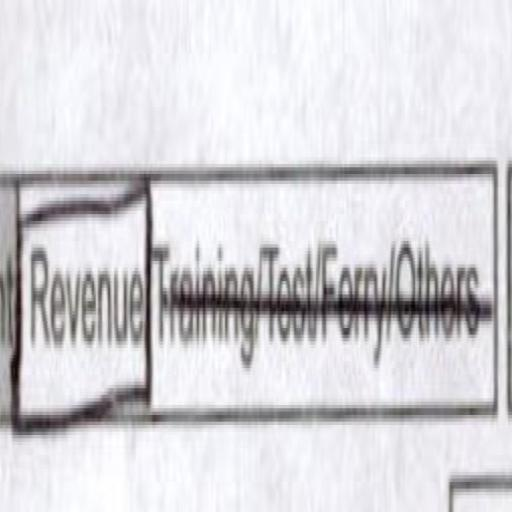check: (14, 156, 160, 512)
